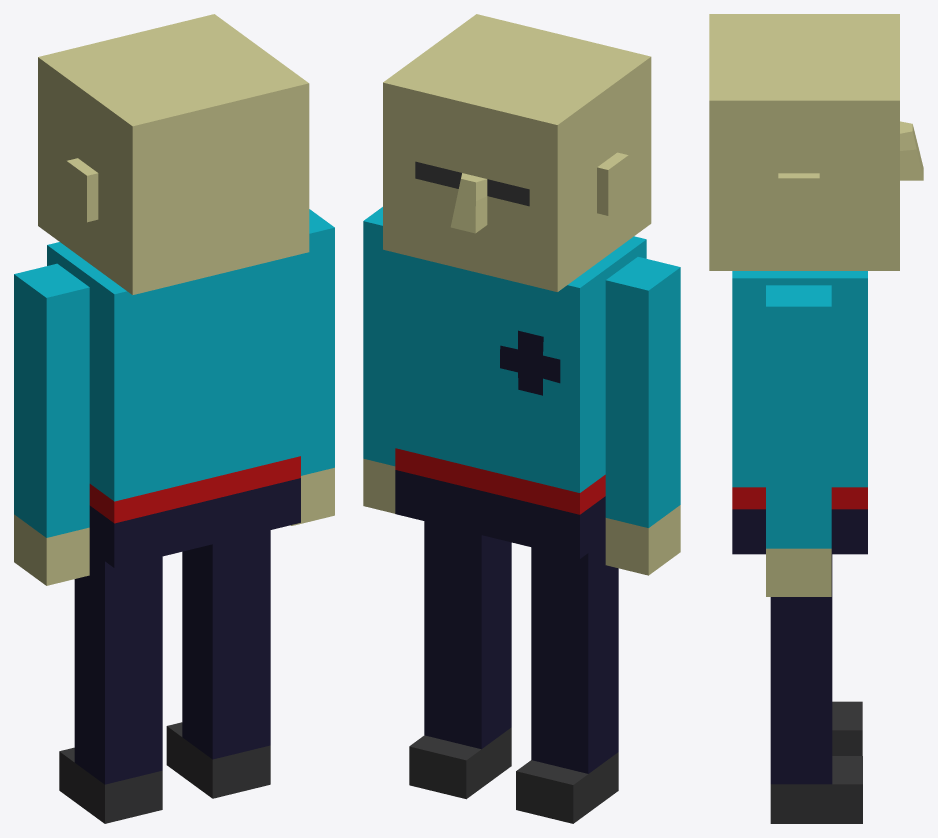
The model's file is paramedic.fbx.
3 renders of one model, left to right at view 1: azimuth 30°, elevation 25°; view 2: azimuth 150°, elevation 25°; view 3: azimuth 270°, elevation 25°, orthographic.
Visible parts, largest first — view 1: Cube.001, Cube.006, Cube.003, Cube.005, Cube.004, Cube.000; view 2: Cube.001, Cube.006, Cube.005, Cube.004, Cube.003, Cube.000; view 3: Cube.001, Cube.006, Cube.000, Cube.004, Cube.005.
Boxes of the visible parts, bbox=[...] form: Cube.001: bbox=[38, 14, 309, 294]; Cube.006: bbox=[47, 242, 300, 568]; Cube.003: bbox=[14, 263, 89, 585]; Cube.005: bbox=[59, 550, 162, 823]; Cube.004: bbox=[166, 530, 270, 798]; Cube.000: bbox=[291, 209, 334, 525]; Cube.001: bbox=[383, 14, 651, 291]; Cube.006: bbox=[395, 236, 646, 558]; Cube.005: bbox=[516, 540, 618, 823]; Cube.004: bbox=[409, 521, 511, 799]; Cube.003: bbox=[605, 257, 680, 575]; Cube.000: bbox=[363, 207, 395, 513]; Cube.001: bbox=[709, 14, 923, 270]; Cube.006: bbox=[732, 271, 867, 554]; Cube.000: bbox=[766, 285, 831, 596]; Cube.004: bbox=[770, 554, 862, 823]; Cube.005: bbox=[832, 701, 862, 755].
Size of the model in its own units: 0.8238 by 1.97 by 0.5264.
